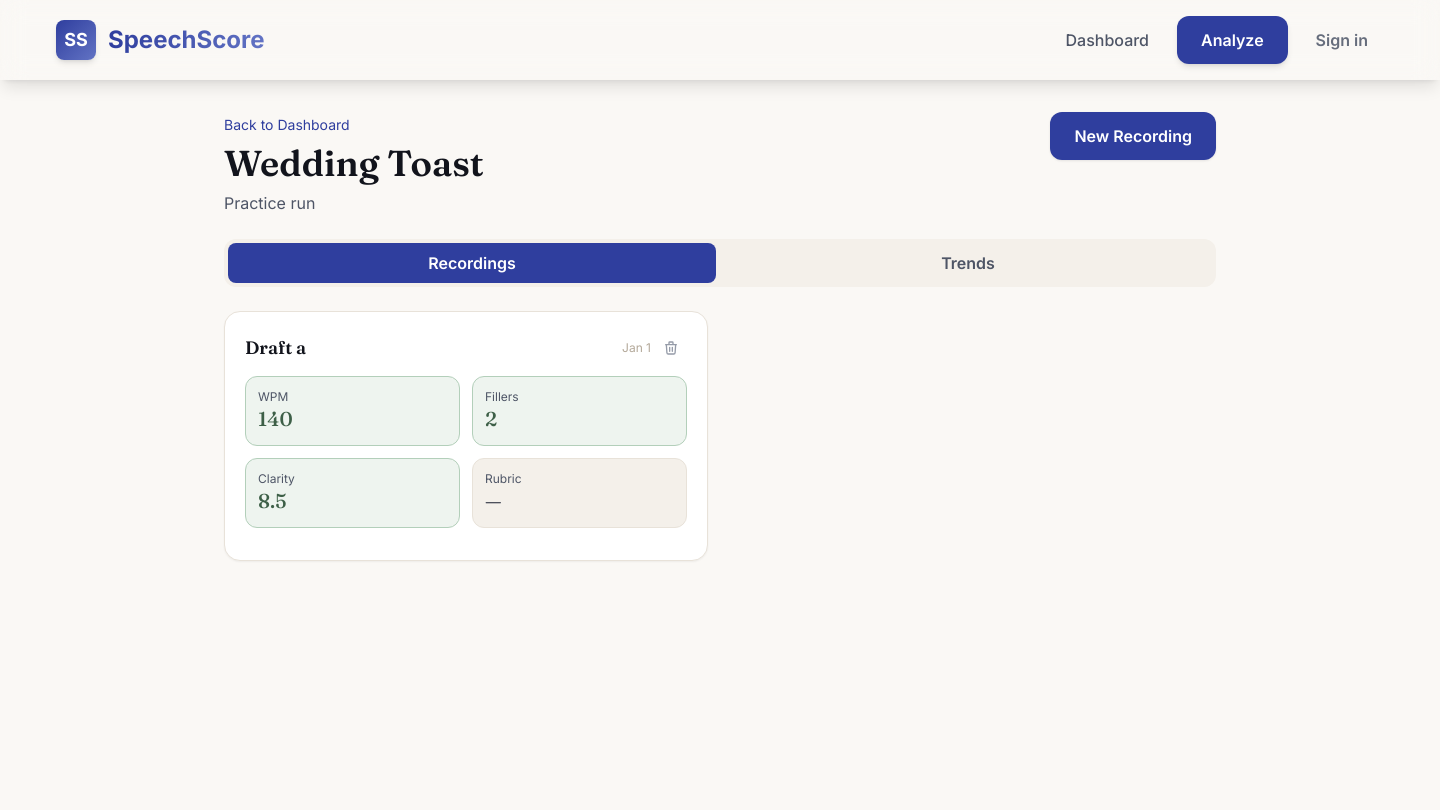
Test: ProjectView › replaces the native confirm() with an accessible delete-confirmation modal
Expected: the heading "Draft a" is shown, [245,334,306,362]
Expected: the text "Delete Recording?" is not shown
Click the button titled "Delete recording" at point(671, 348), box [649,326,693,370]
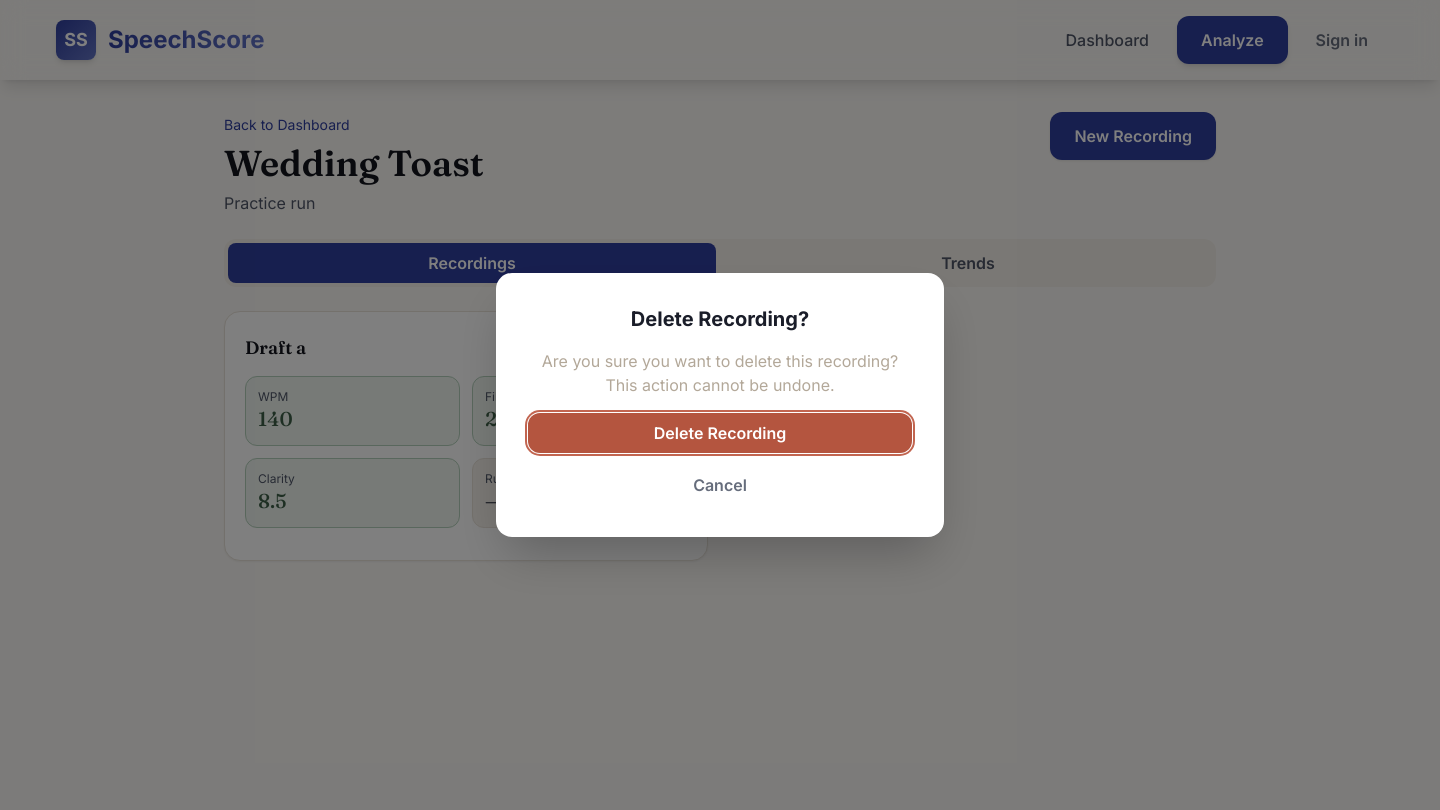
Expected: the heading "Delete Recording?" is shown, [631,305,809,333]
Click the button "Cancel" at point(720, 485), box [528,465,912,505]
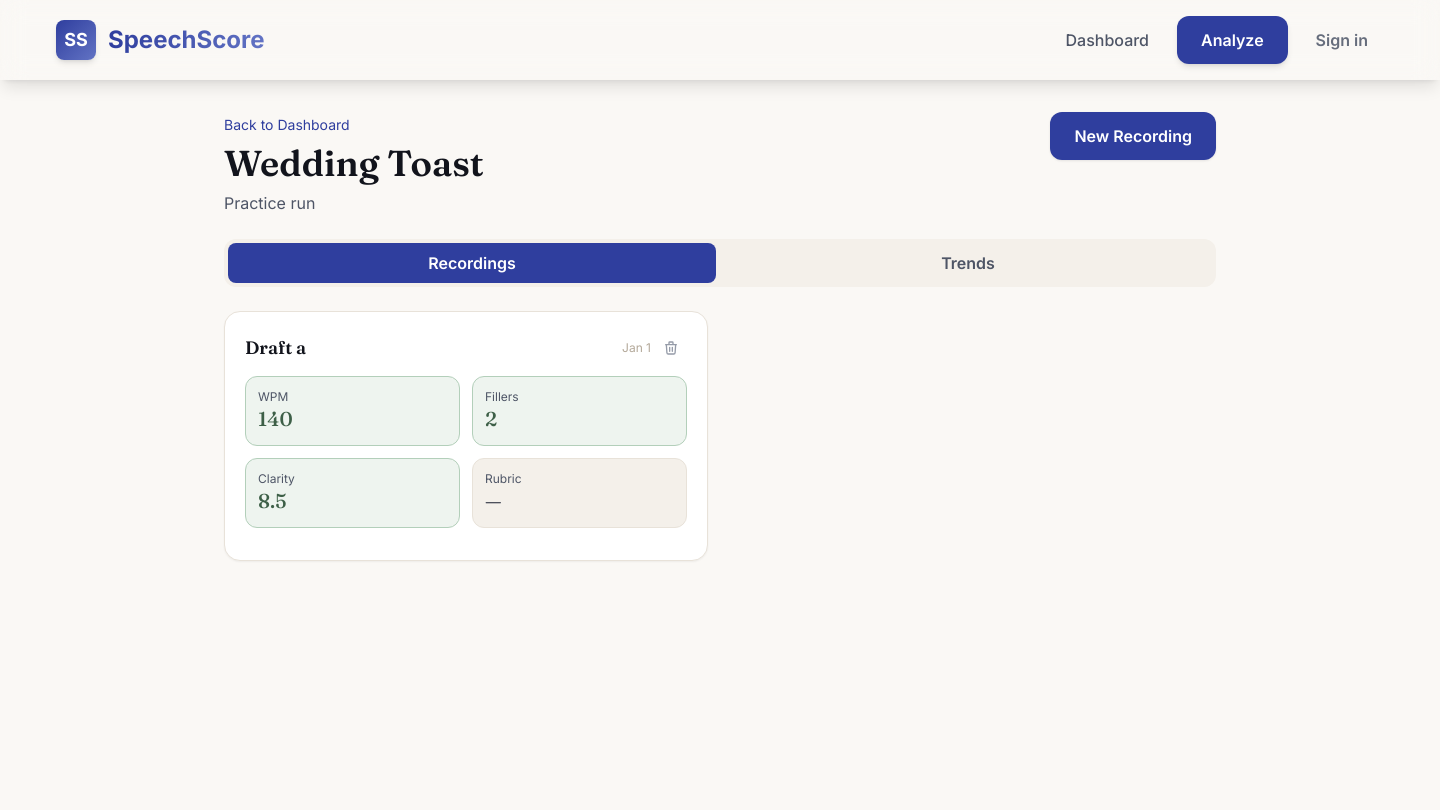
Expected: the heading "Draft a" is shown, [245,334,306,362]
Expected: the heading "Delete Recording?" is gone
